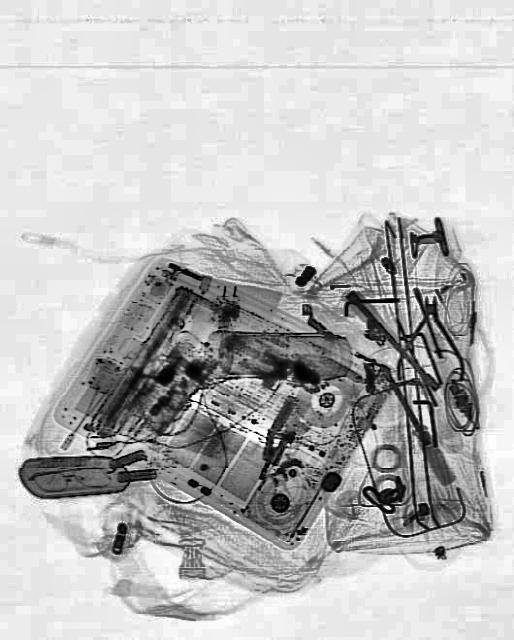Pliers: (396, 292, 466, 383)
